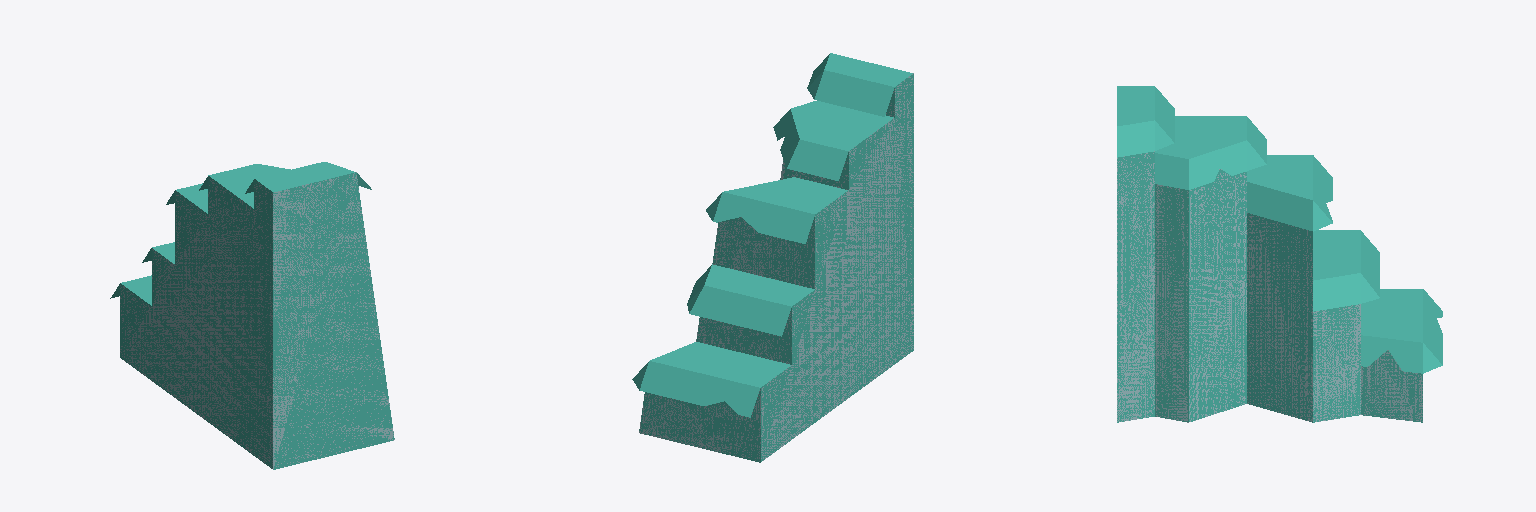
File: cliffGrey_stepsEnd.obj
3 renders of one model, left to right at view 1: azimuth 30°, elevation 25°; view 2: azimuth 150°, elevation 25°; view 3: azimuth 270°, elevation 25°, orthographic.
Visible parts, largest first — view 1: cliffGrey_stepsEnd; view 2: cliffGrey_stepsEnd; view 3: cliffGrey_stepsEnd.
Boxes of the visible parts, box(x1,y1,x2,y2) form: cliffGrey_stepsEnd: box(110, 162, 394, 469); cliffGrey_stepsEnd: box(632, 53, 913, 462); cliffGrey_stepsEnd: box(1117, 86, 1442, 422).
Bounding box in the file's own units: 4.84 × 10 × 10.64.